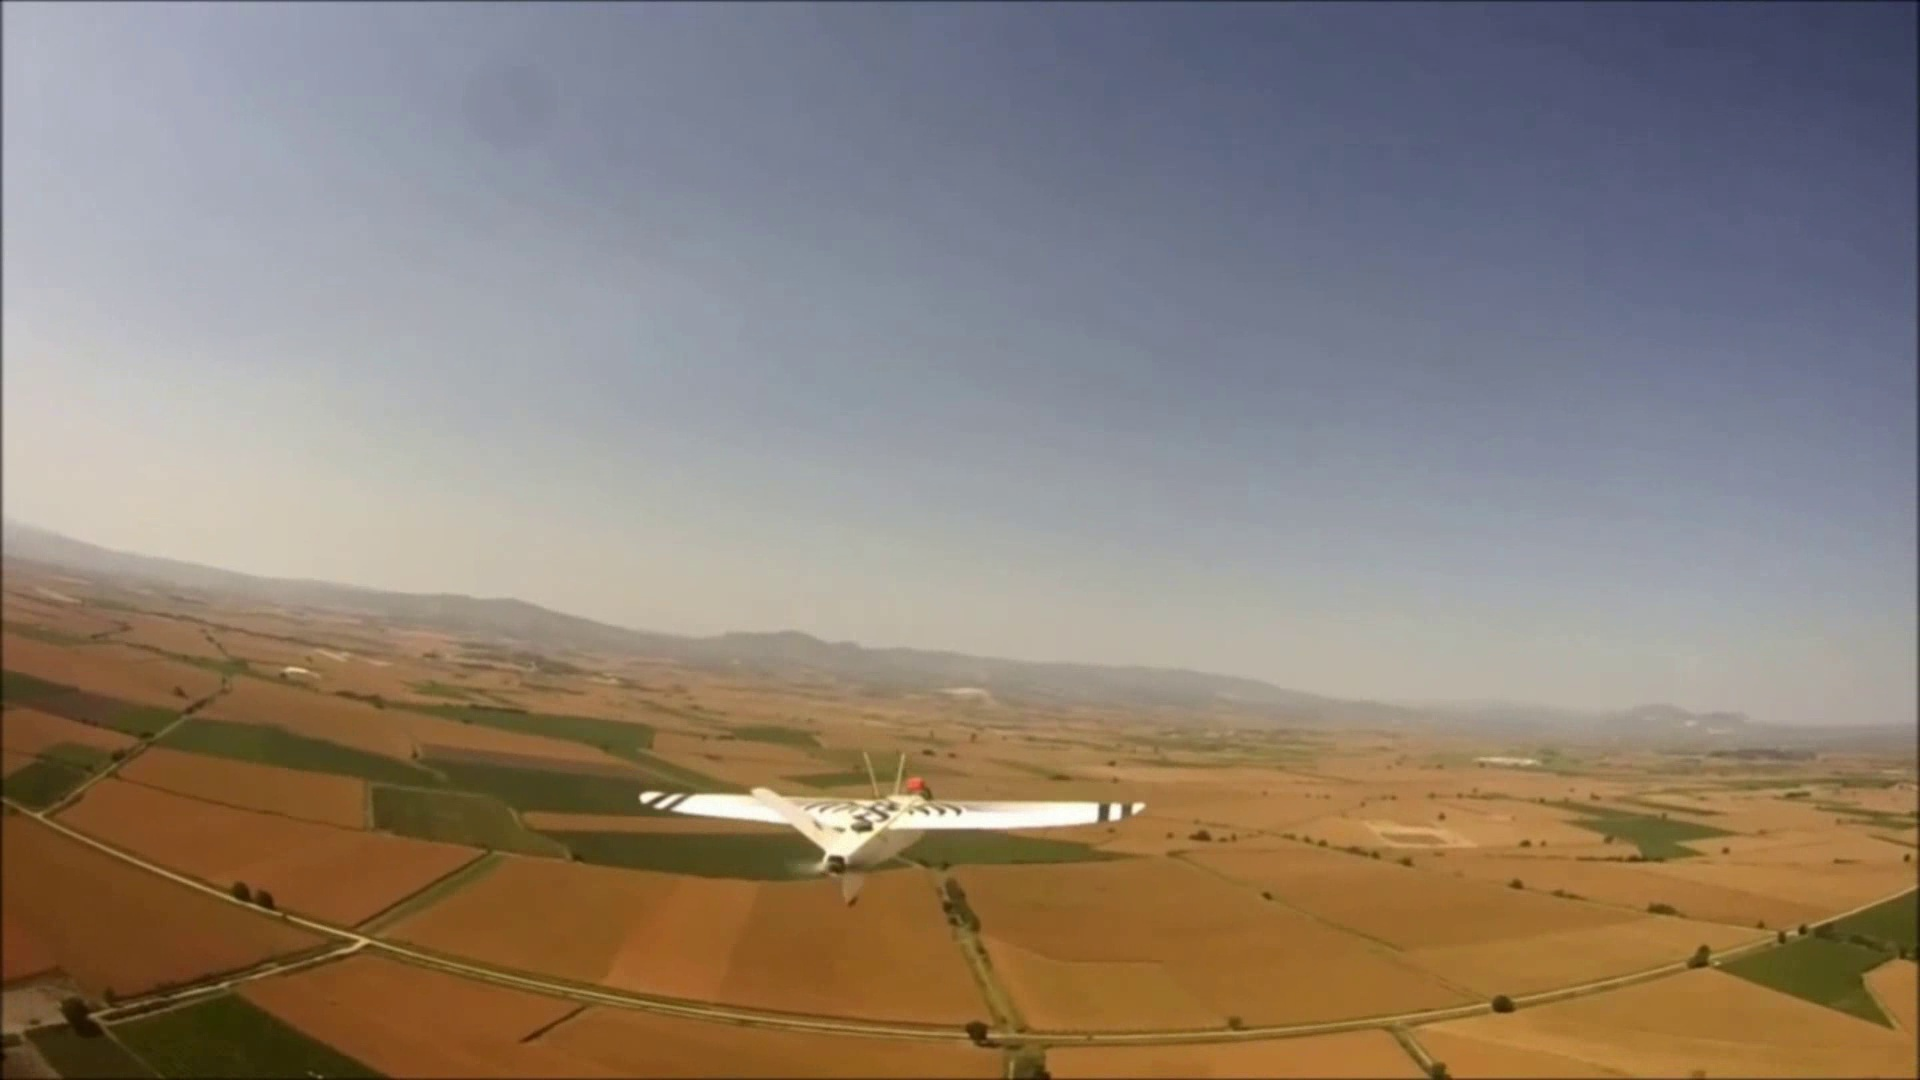airplane: (15, 520, 1138, 887)
